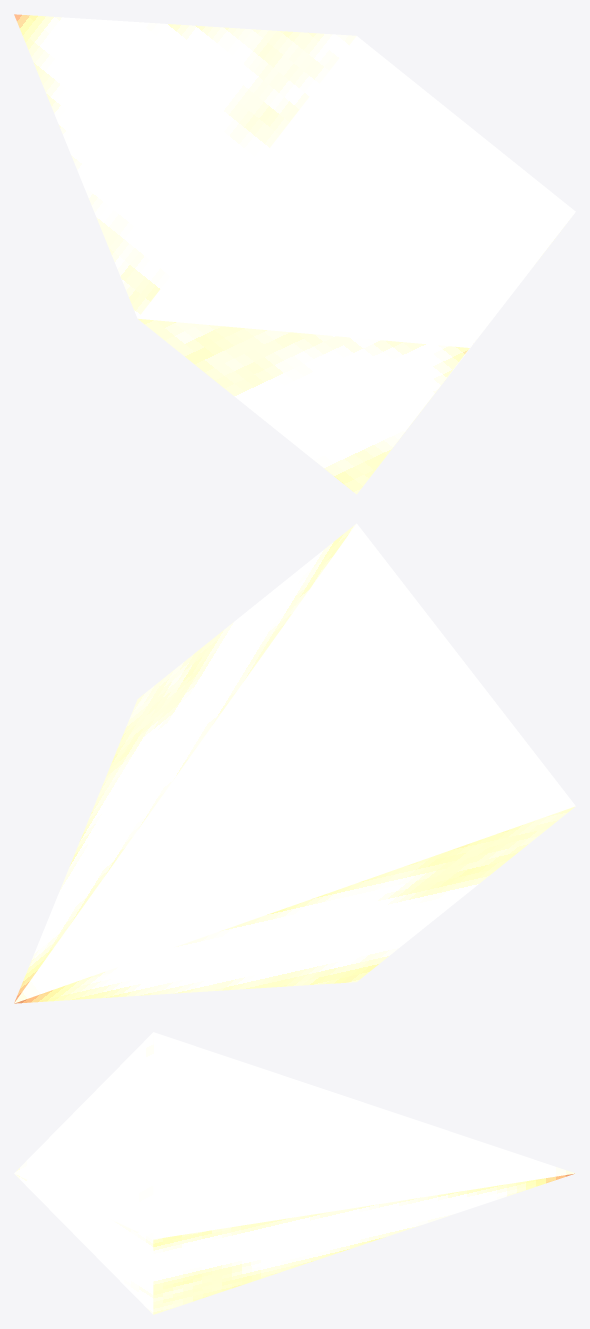
The model's file is muzzleflash.glb.
The picture shows the model from 3 angles, top to bottom: view 1: azimuth 30°, elevation 25°; view 2: azimuth 150°, elevation 25°; view 3: azimuth 270°, elevation 25°; orthographic projection. The views are drawn at different scales.
Parts seen in each view (by area): view 1: MuzzleFlash; view 2: MuzzleFlash; view 3: MuzzleFlash.
Boxes of the visible parts, left/top/right/bottom form: MuzzleFlash: left=14, top=14, right=575, bottom=494; MuzzleFlash: left=14, top=523, right=575, bottom=1003; MuzzleFlash: left=14, top=1032, right=575, bottom=1314.
Bounding box in the file's own units: 0.6274 × 0.6274 × 1.13.
